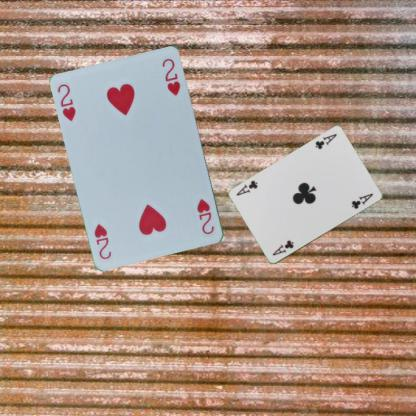2h: (55, 82, 77, 123), (195, 196, 216, 236)
Ac: (313, 131, 338, 151), (270, 238, 294, 257)
